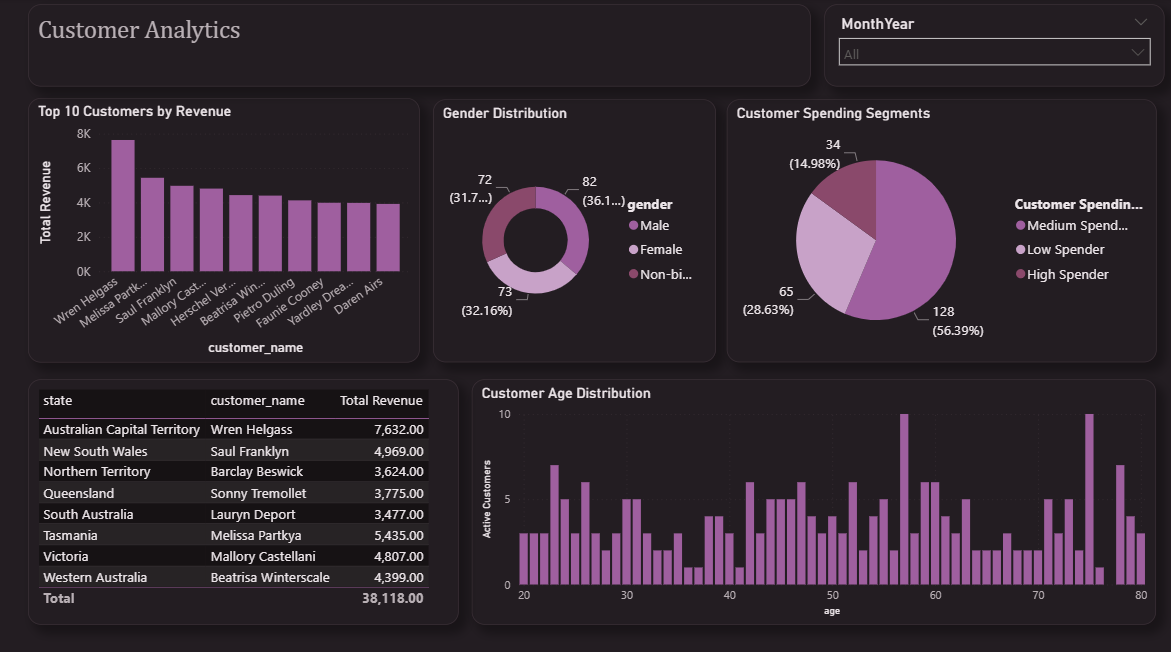

This screenshot's page, from the dashboard's own definition file:
{"tool":"powerbi","page":{"name":"Customer Analytics","canvas":[1280,720],"ordinal":1},"visuals":[{"type":"clusteredColumnChart","title":"Top 10 Customers by Revenue","fields":{"Y":["_measures.Total Revenue"],"Category":["customers.customer_name"]},"box":[32.5,108.8,426.7,288.2],"z":0},{"type":"donutChart","title":"Gender Distribution","fields":{"Category":["customers.gender"],"Y":["_measures.Active Customers"]},"box":[473.3,110.2,308,286.8],"z":1000},{"type":"clusteredColumnChart","title":"Customer Age Distribution","fields":{"Y":["_measures.Active Customers"],"Category":["customers.age"]},"box":[515.7,415.4,744.5,267],"z":2000},{"type":"pieChart","title":"Customer Spending Segments","fields":{"Category":["customers.Customer Spending Category"],"Y":["_measures.Active Customers"]},"box":[792.6,110.2,467.6,286.8],"z":3000},{"type":"slicer","fields":{"Values":["DateTable.MonthYear"]},"box":[899.4,7.1,370.6,89.8],"z":4000},{"type":"textbox","box":[32.8,7.1,852.4,89.8],"z":5000},{"type":"tableEx","fields":{"Values":["customers.state","customers.customer_name","_measures.Total Revenue"]},"box":[32.5,415.4,469.1,267],"z":6000}]}

Visuals, with their boxes in screenshot pixels (x1, y1, x2, y2), scaled from the page's 1280x720 canvas onto the 1171x652 screenshot:
"Top 10 Customers by Revenue" clusteredColumnChart: Rect(30, 99, 420, 360)
"Gender Distribution" donutChart: Rect(433, 100, 715, 360)
"Customer Age Distribution" clusteredColumnChart: Rect(472, 376, 1153, 618)
"Customer Spending Segments" pieChart: Rect(725, 100, 1153, 360)
slicer - DateTable.MonthYear: Rect(823, 6, 1162, 88)
textbox: Rect(30, 6, 810, 88)
tableEx - customers.state x customers.customer_name: Rect(30, 376, 459, 618)
